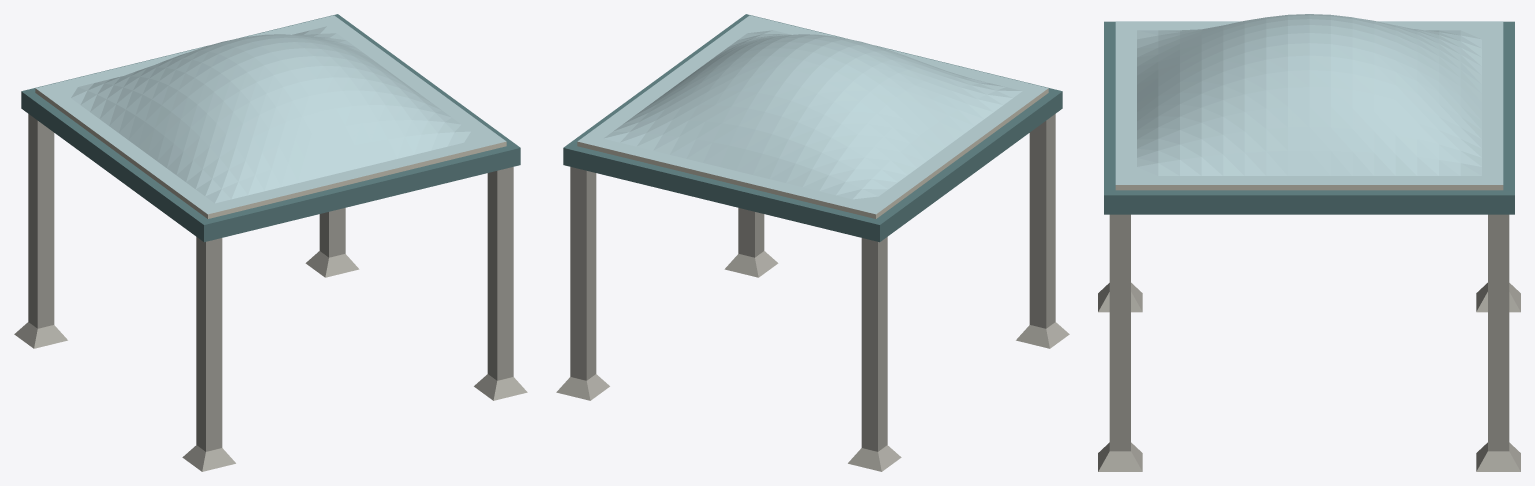
3 views of the same model, side by side, from view 1: azimuth 30°, elevation 25°; view 2: azimuth 150°, elevation 25°; view 3: azimuth 270°, elevation 25° (orthographic). The views are drawn at different scales.
Parts seen in each view (by area): view 1: WholeDoubleBulgedRoofCushionExterior, WholeOpenCentrePerimeterRoofFrame, WholeFootAndStraightColumn_-1_-1, WholeFootAndStraightColumn_1_-1, WholeFootAndStraightColumn_-1_1, WholeFootAndStraightColumn_1_1; view 2: WholeDoubleBulgedRoofCushionExterior, WholeOpenCentrePerimeterRoofFrame, WholeFootAndStraightColumn_-1_1, WholeFootAndStraightColumn_1_1, WholeFootAndStraightColumn_-1_-1, WholeFootAndStraightColumn_1_-1; view 3: WholeDoubleBulgedRoofCushionExterior, WholeOpenCentrePerimeterRoofFrame, WholeFootAndStraightColumn_1_-1, WholeFootAndStraightColumn_1_1, WholeFootAndStraightColumn_-1_-1, WholeFootAndStraightColumn_-1_1.
Part boxes in pixels (box(x1,y1,x2,y2)): WholeDoubleBulgedRoofCushionExterior: box(35, 15, 506, 218); WholeOpenCentrePerimeterRoofFrame: box(21, 14, 520, 242); WholeFootAndStraightColumn_-1_-1: box(182, 237, 235, 471); WholeFootAndStraightColumn_1_-1: box(474, 167, 527, 400); WholeFootAndStraightColumn_-1_1: box(14, 114, 67, 348); WholeFootAndStraightColumn_1_1: box(305, 208, 359, 277); WholeDoubleBulgedRoofCushionExterior: box(577, 15, 1048, 218); WholeOpenCentrePerimeterRoofFrame: box(563, 14, 1062, 242); WholeFootAndStraightColumn_-1_1: box(848, 237, 901, 471); WholeFootAndStraightColumn_1_1: box(556, 167, 609, 400); WholeFootAndStraightColumn_-1_-1: box(1016, 114, 1069, 348); WholeFootAndStraightColumn_1_-1: box(724, 208, 778, 277); WholeDoubleBulgedRoofCushionExterior: box(1115, 14, 1503, 190); WholeOpenCentrePerimeterRoofFrame: box(1104, 21, 1514, 214); WholeFootAndStraightColumn_1_-1: box(1098, 214, 1142, 471); WholeFootAndStraightColumn_1_1: box(1476, 214, 1520, 471); WholeFootAndStraightColumn_-1_-1: box(1098, 282, 1142, 312); WholeFootAndStraightColumn_-1_1: box(1476, 282, 1520, 312).
Size of the model in its own units: 4.36 by 3.98 by 4.36.
